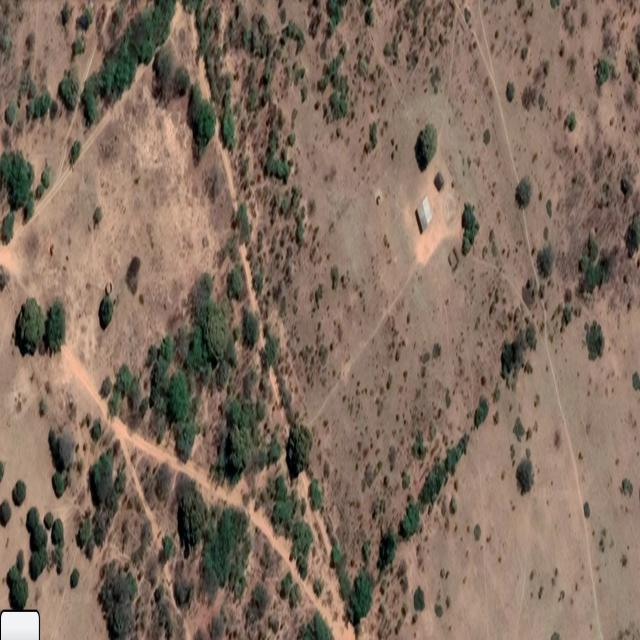boundaries: (54, 335, 349, 639), (3, 36, 160, 260)
